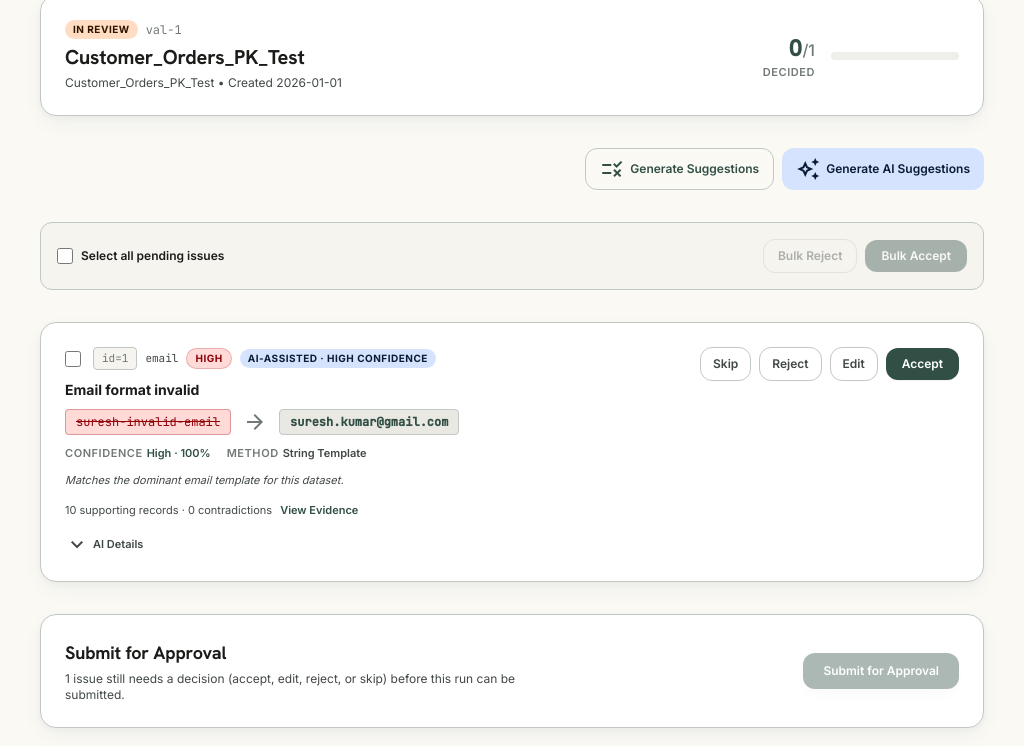
Test case: ReviewCorrectionsView — AI Details (AI Trace) › renders "AI Used: No" for a deterministic (non-AI-backed) trace
(page scrolled)
Click the button "AI Details" at (104, 544), box top-left (65, 532), bottom-right (143, 556)
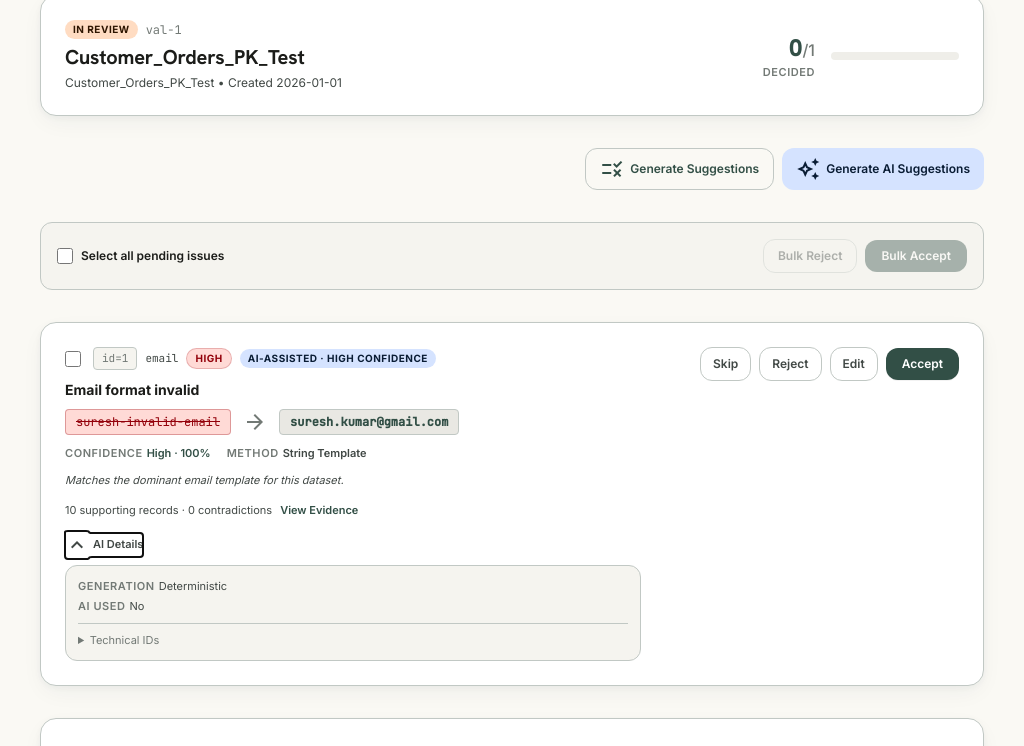
Check: the text "Deterministic" is shown, box top-left (159, 578), bottom-right (227, 592)
Check: the text "No" is shown, box top-left (130, 599), bottom-right (144, 613)
